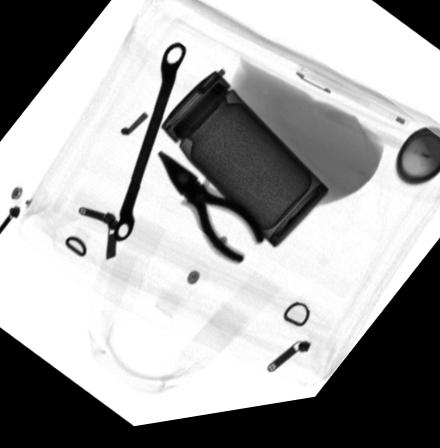Pliers: (156, 154, 265, 272)
Wrench: (113, 45, 186, 245)
